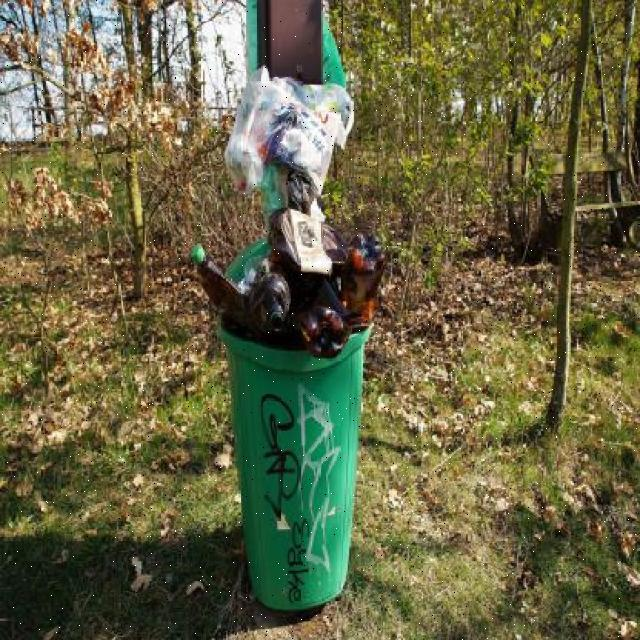garbage container: (210, 277, 378, 623)
